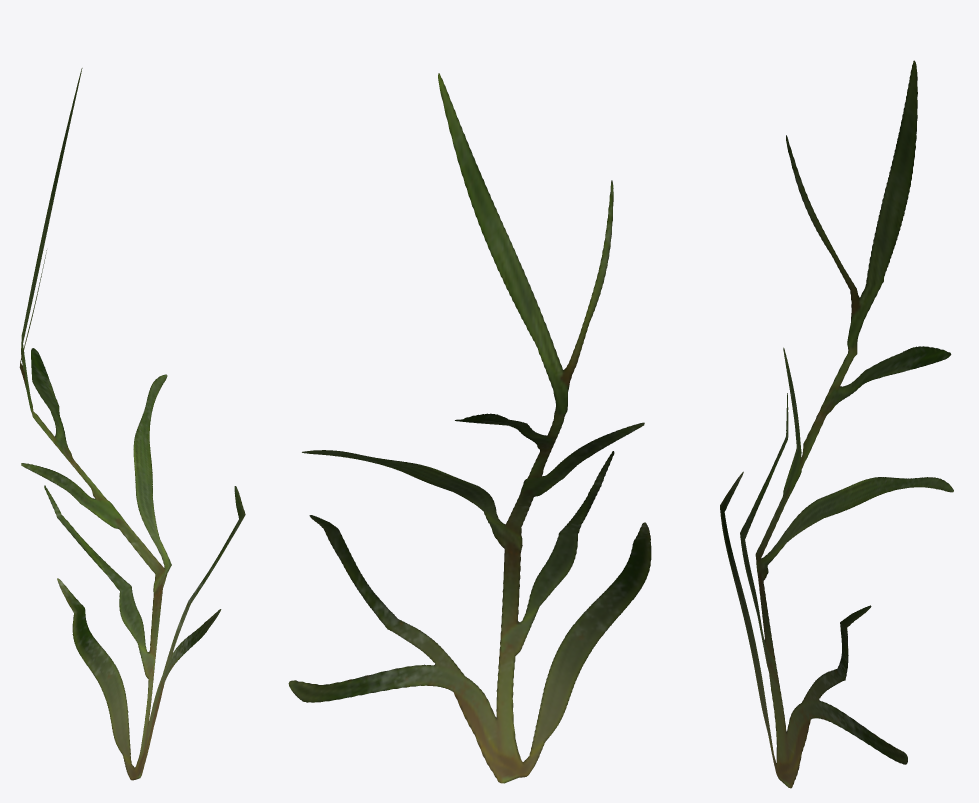
Rendered from Bermuda_Clump_1.fbx.
3 views of the same model, side by side, from view 1: azimuth 30°, elevation 25°; view 2: azimuth 150°, elevation 25°; view 3: azimuth 270°, elevation 25° (orthographic). The views are drawn at different scales.
Parts seen in each view (by area): view 1: grass_bermuda_01_medium_a; view 2: grass_bermuda_01_medium_a; view 3: grass_bermuda_01_medium_a.
Part boxes in pixels (left/top/right/bottom): grass_bermuda_01_medium_a: left=19, top=68, right=245, bottom=780; grass_bermuda_01_medium_a: left=288, top=73, right=651, bottom=783; grass_bermuda_01_medium_a: left=720, top=60, right=953, bottom=788.
Size of the model in its own units: 3.85 by 9.78 by 2.86.
